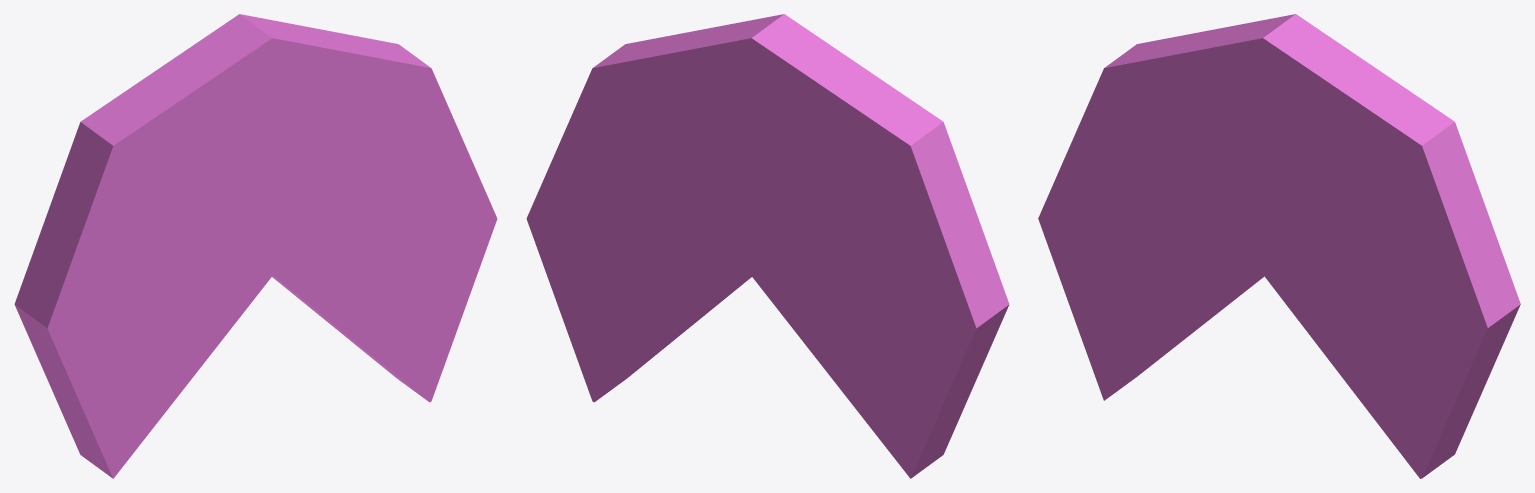
Rendered from medium hole wall.fbx.
3 views of the same model, side by side, from view 1: azimuth 30°, elevation 25°; view 2: azimuth 150°, elevation 25°; view 3: azimuth 330°, elevation 25° (orthographic).
Visible parts, largest first — view 1: medium hole; view 2: medium hole; view 3: medium hole.
Part boxes in pixels (left/top/right/bottom): medium hole: left=14, top=14, right=497, bottom=478; medium hole: left=526, top=14, right=1009, bottom=478; medium hole: left=1038, top=14, right=1520, bottom=478.
Size of the model in its own units: 5.58 by 4.77 by 0.7077.
